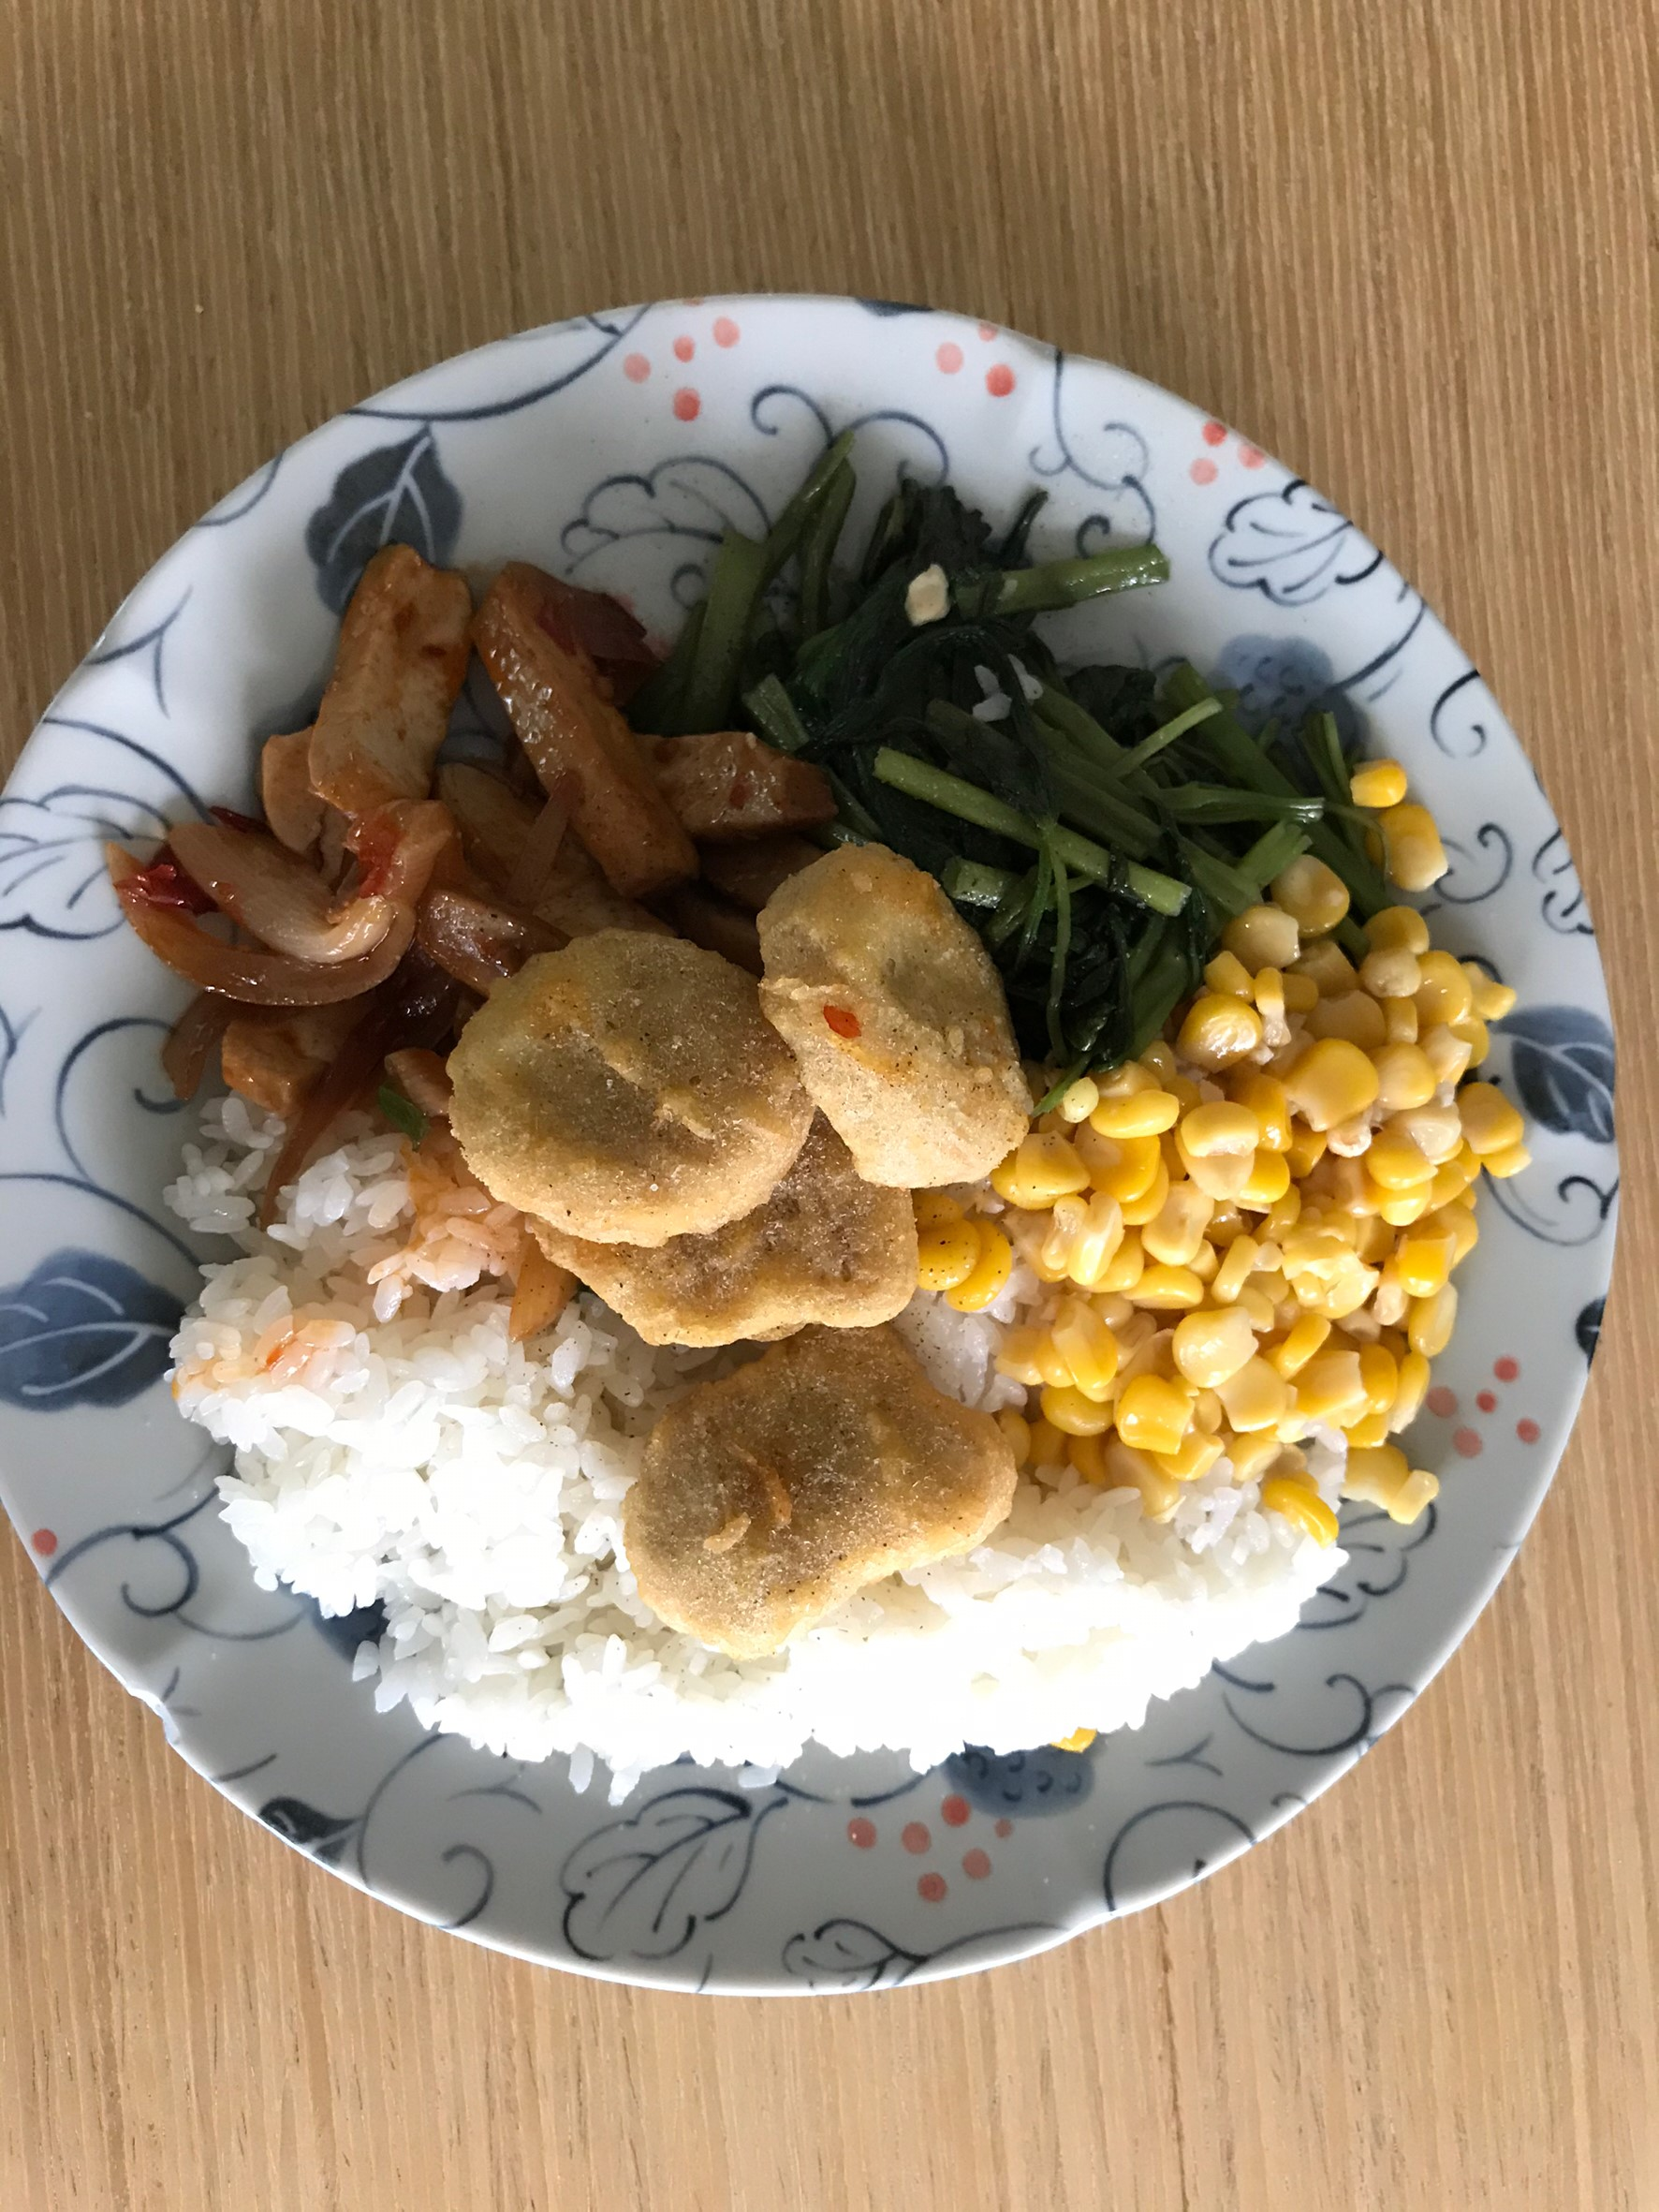chicken_nuggets: (481, 856, 1037, 1623)
rice: (155, 1171, 589, 1816)
water_spinach: (732, 493, 1298, 1021)
